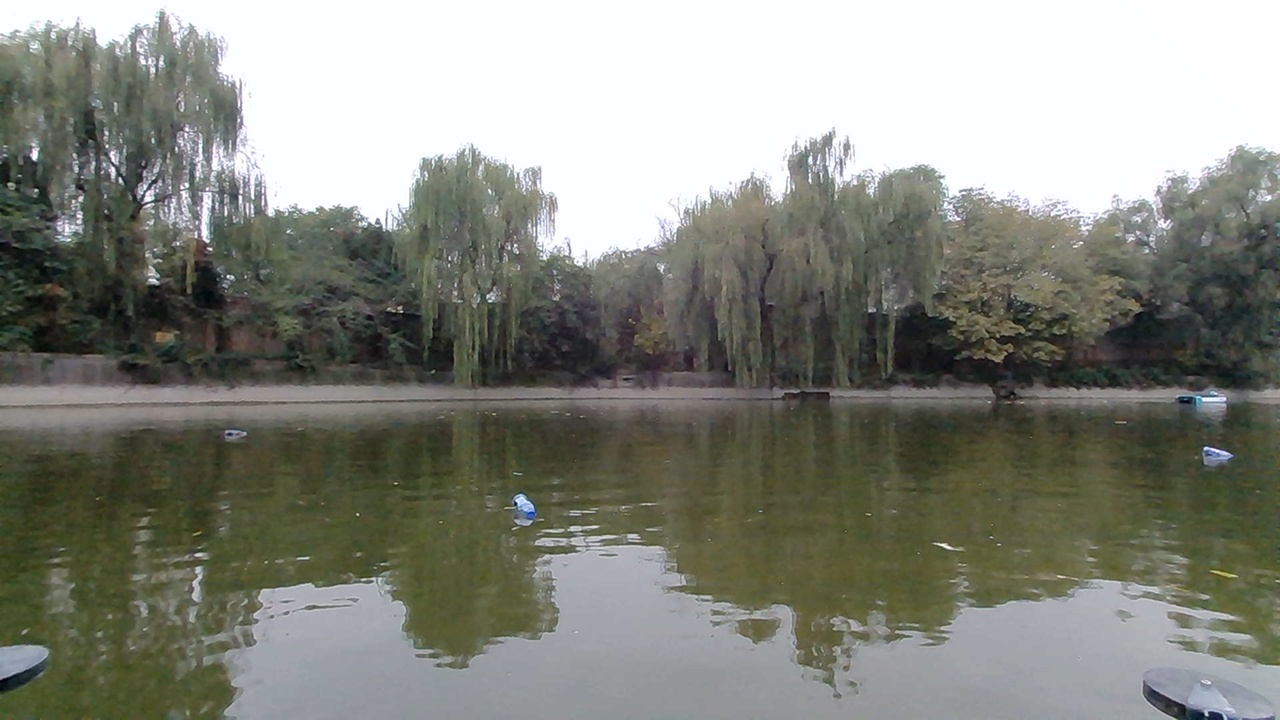bottle: (500, 491, 550, 528), (1197, 441, 1242, 475), (221, 412, 253, 446)
